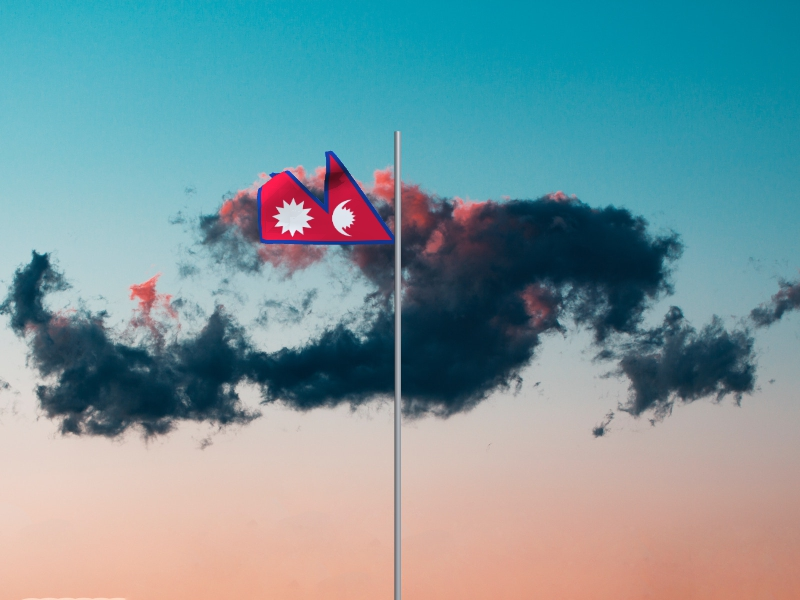np: (257, 150, 395, 245)
